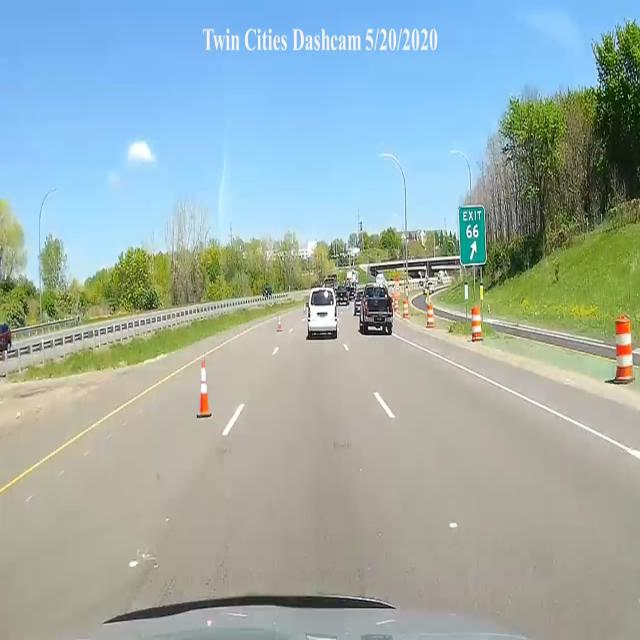cone: (191, 358, 219, 420), (276, 310, 284, 332)
